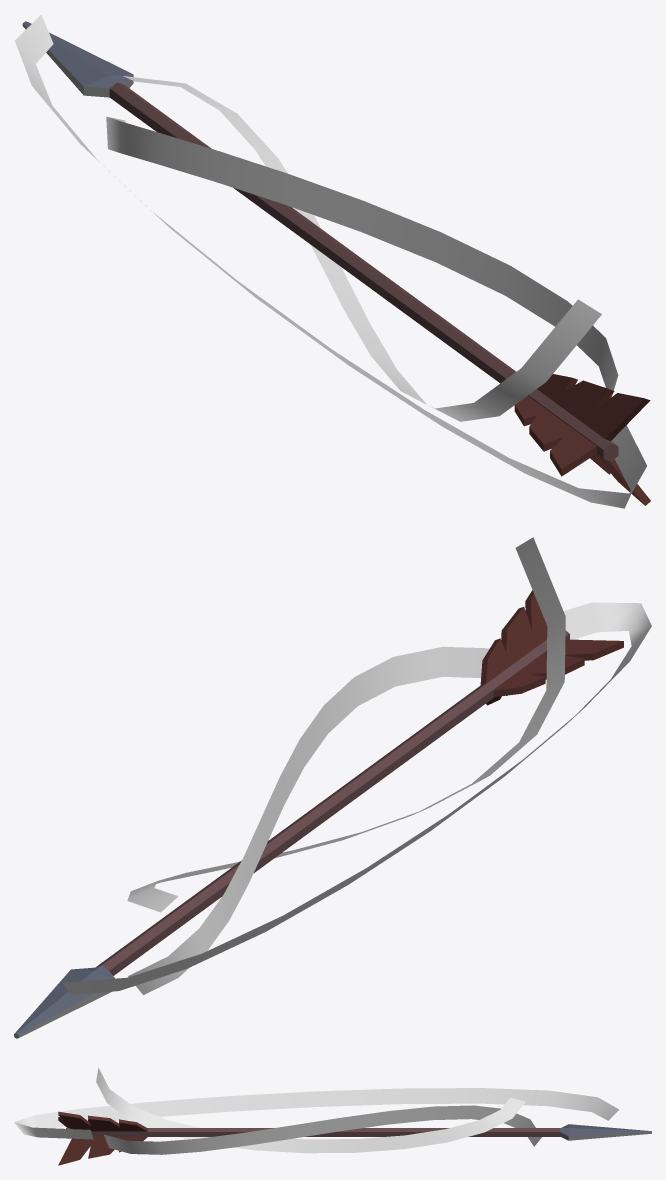
File: arrow.glb
3 views of the same model, one above another, from view 1: azimuth 30°, elevation 25°; view 2: azimuth 150°, elevation 25°; view 3: azimuth 270°, elevation 25° (orthographic). The views are drawn at different scales.
Visible parts, largest first — view 1: Arrow, BezierCurve.001, BezierCurve.002, BezierCurve; view 2: Arrow, BezierCurve.001, BezierCurve, BezierCurve.002; view 3: BezierCurve, Arrow, BezierCurve.001, BezierCurve.002.
Part boxes in pixels (<box>): Arrow: <box>22,21,650,505</box>; BezierCurve.001: <box>106,116,618,398</box>; BezierCurve.002: <box>123,76,601,421</box>; BezierCurve: <box>15,14,646,508</box>; Arrow: <box>14,590,623,1038</box>; BezierCurve.001: <box>128,646,489,994</box>; BezierCurve: <box>62,602,651,995</box>; BezierCurve.002: <box>127,537,565,912</box>; BezierCurve: <box>14,1088,618,1139</box>; Arrow: <box>58,1111,651,1165</box>; BezierCurve.001: <box>104,1105,541,1154</box>; BezierCurve.002: <box>96,1067,525,1153</box>.
Size of the model in its own units: 0.305 by 0.2487 by 1.56.
